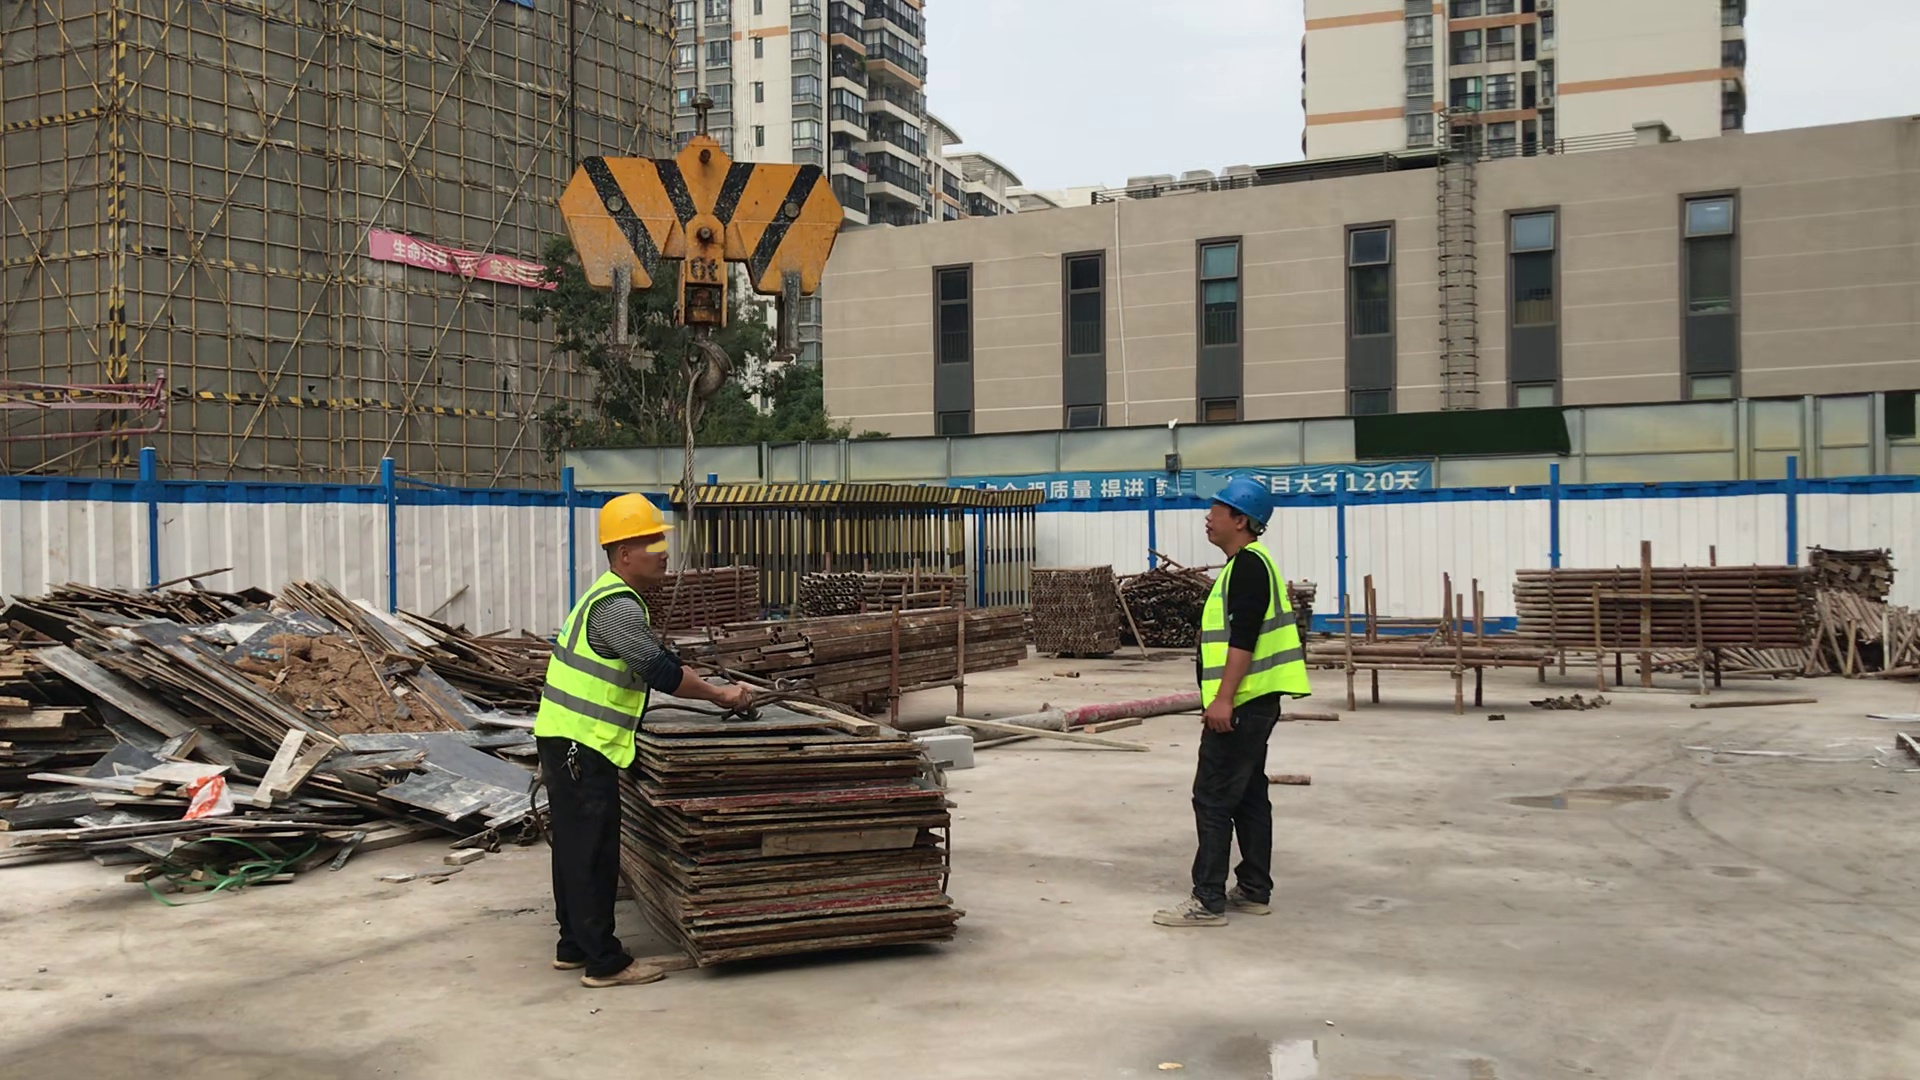board: (640, 724, 973, 968)
helmet: (588, 495, 677, 547), (1209, 476, 1276, 521)
hook: (552, 138, 847, 403)
person: (528, 486, 751, 986), (1154, 479, 1280, 926)
scaffold: (1510, 557, 1813, 656), (1032, 564, 1126, 663), (804, 570, 967, 612), (658, 570, 765, 626)
slogan: (370, 223, 551, 290), (949, 475, 1426, 493)
vest: (540, 569, 647, 772), (1202, 545, 1306, 714)
